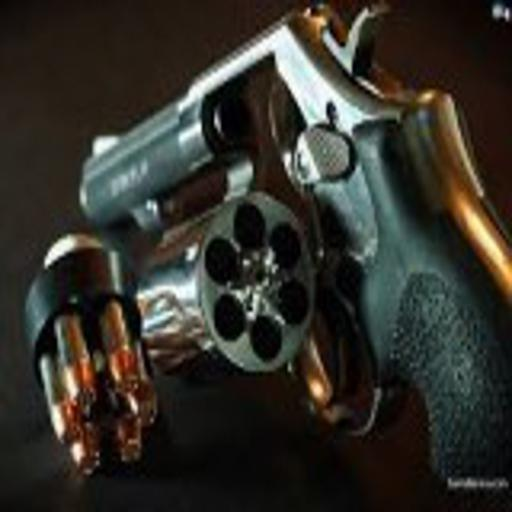Handgun: (72, 3, 507, 485)
